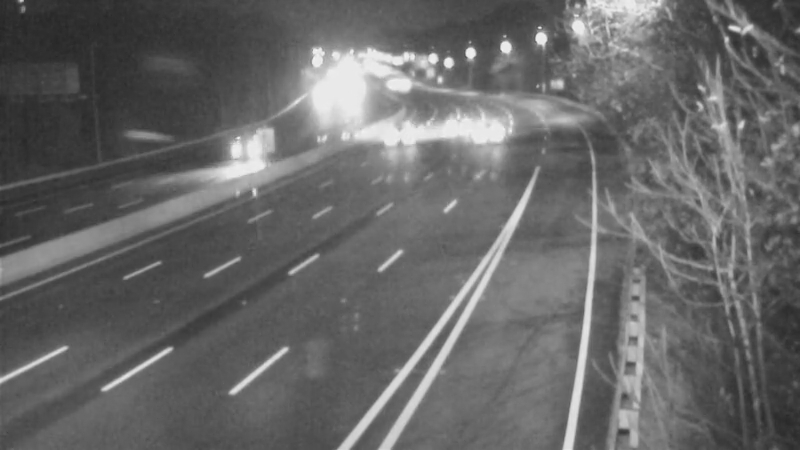vehicle: (445, 110, 495, 160), (417, 98, 467, 148), (371, 107, 421, 157), (224, 119, 274, 169)
